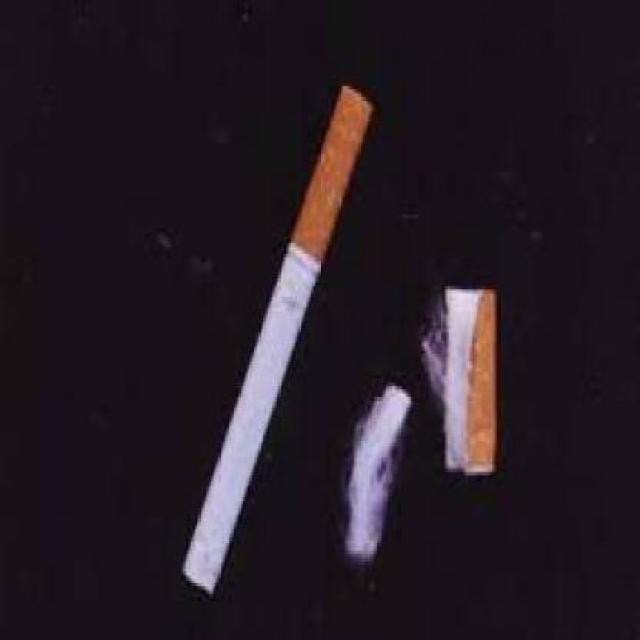cigarette: (125, 78, 383, 597), (442, 275, 527, 533), (335, 379, 420, 612)
